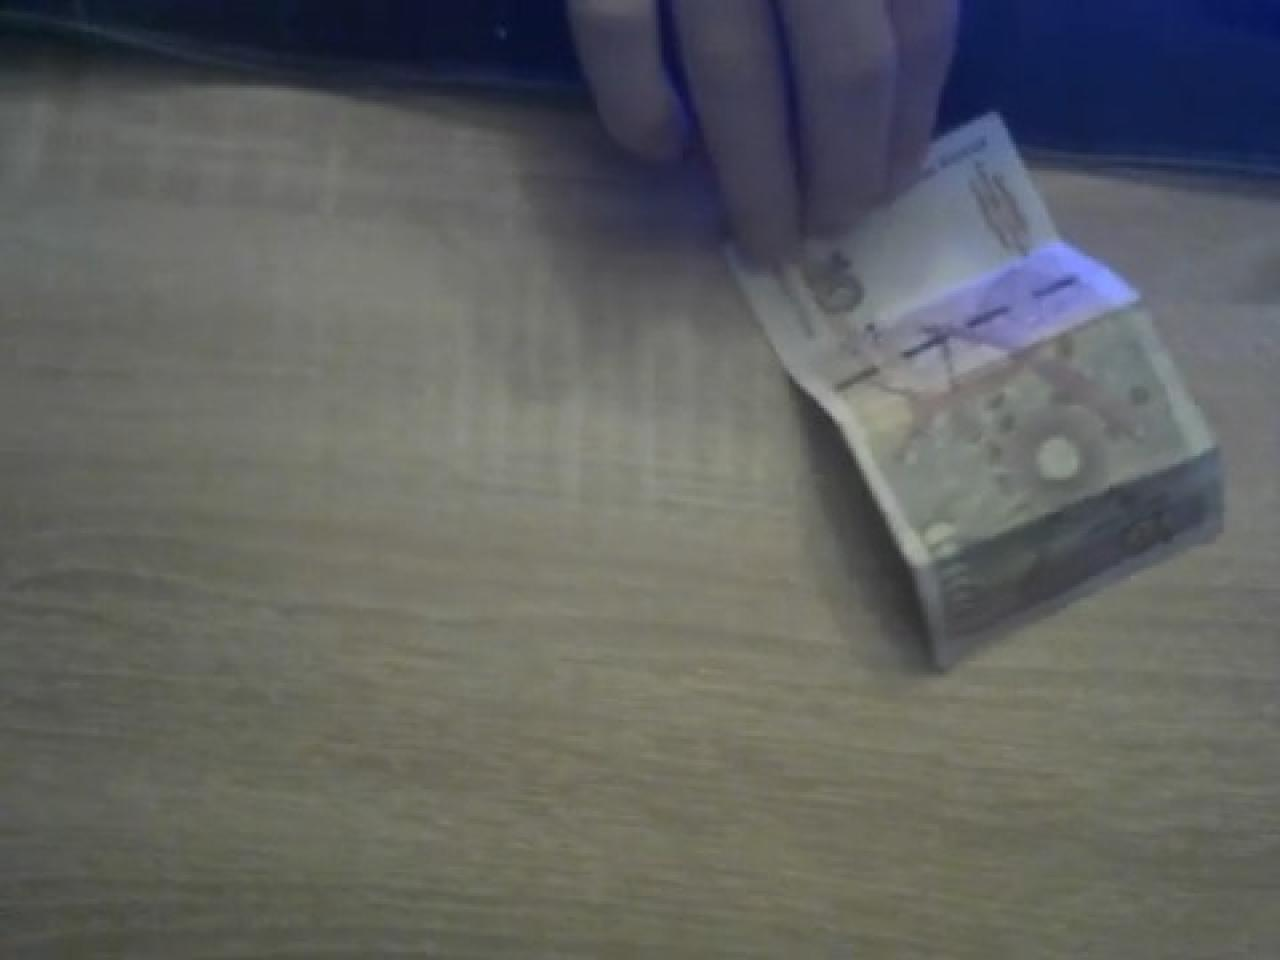10leva: (723, 117, 1227, 678)
